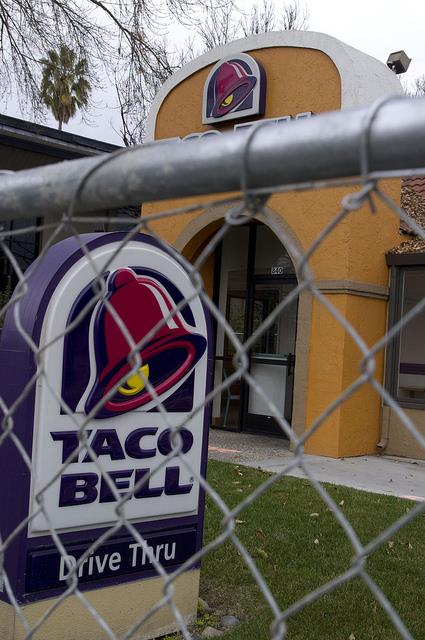Taco_Bell: (47, 266, 203, 506)
